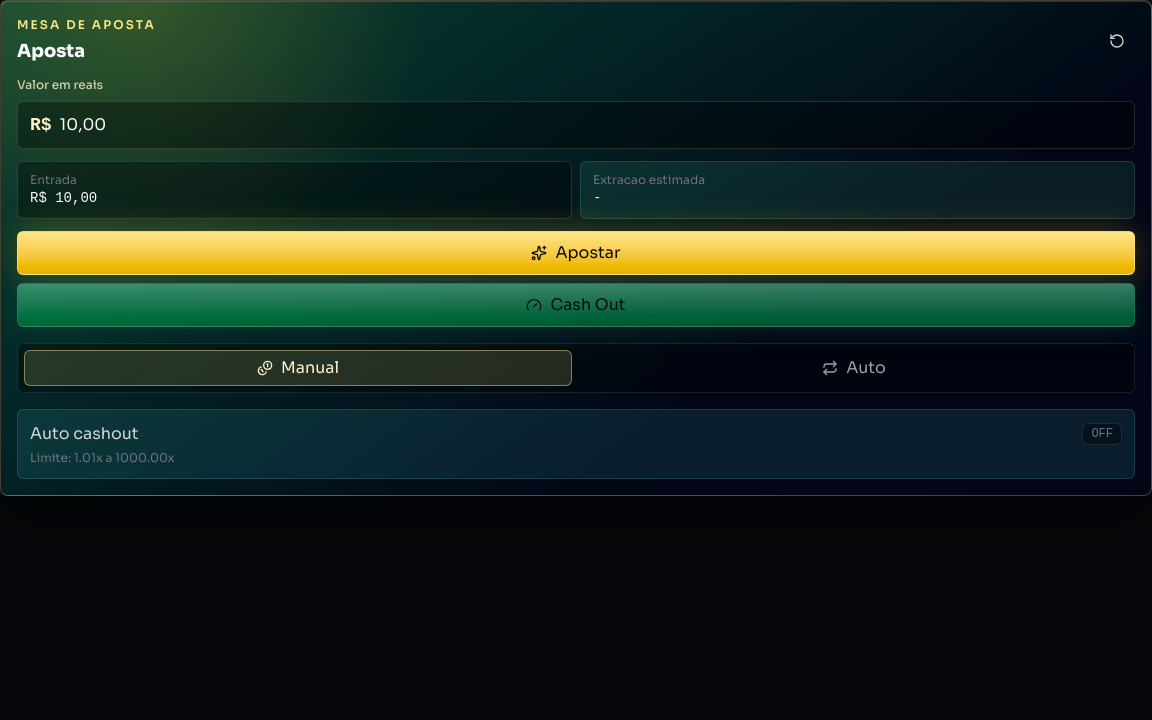
Scenario: game dashboard helpers › disables auto bet when persistent risk fields are invalid
Click the button "Auto": x=854, y=368 [580,350,1128,386]
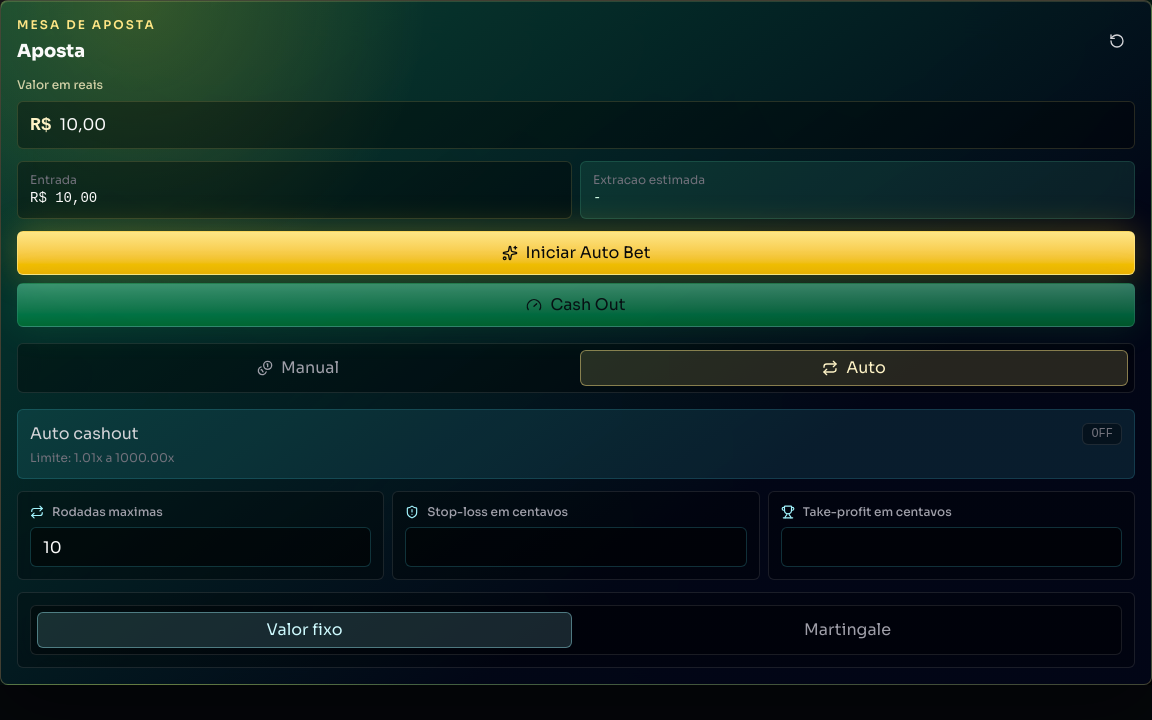
Replace the text in the field labelled "Rodadas maximas" with "0": x=201, y=547 [30,527,371,567]
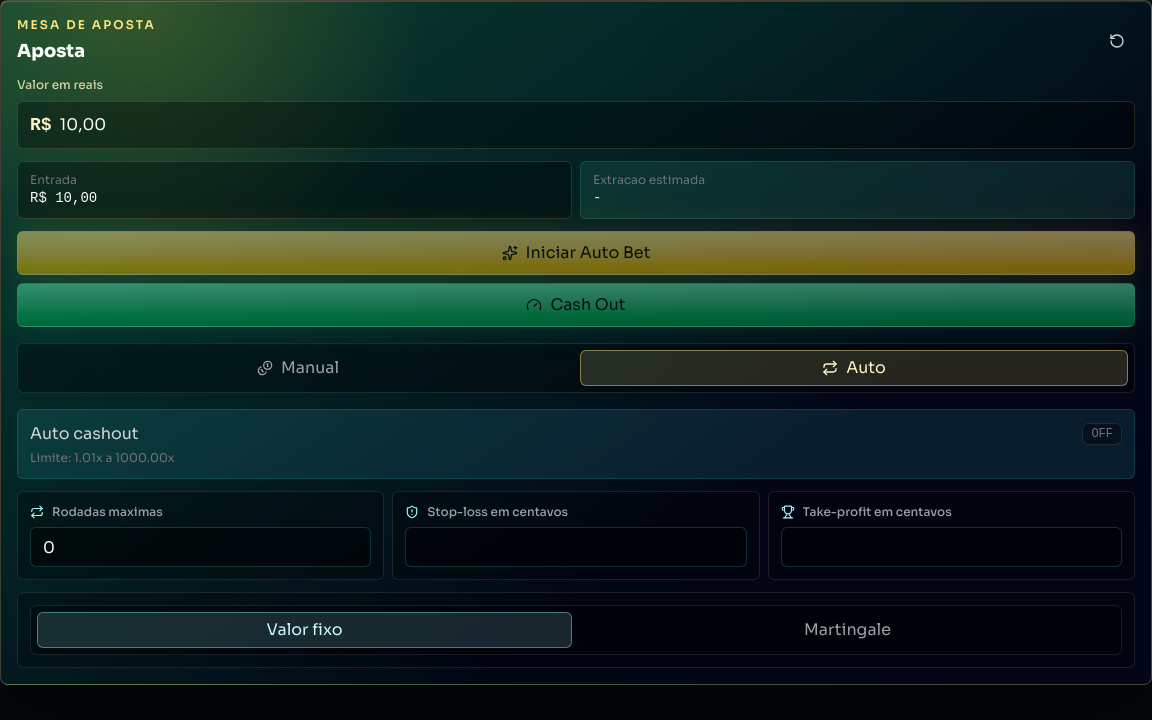
Expected: the button "Iniciar Auto Bet" is disabled, [17,231,1135,275]
Replace the text in the field labelled "Rodadas maximas" with "5": x=201, y=547 [30,527,371,567]
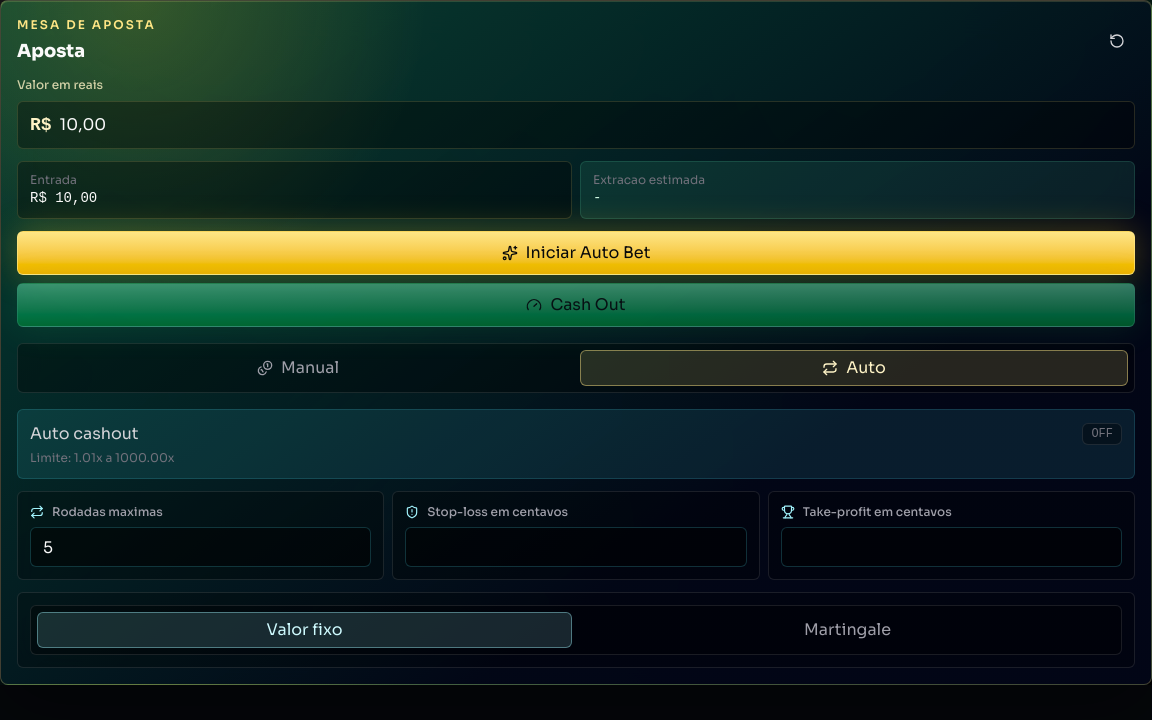
In the field labelled "Stop-loss em centavos": x=576, y=547 [405,527,747,567], type "0"
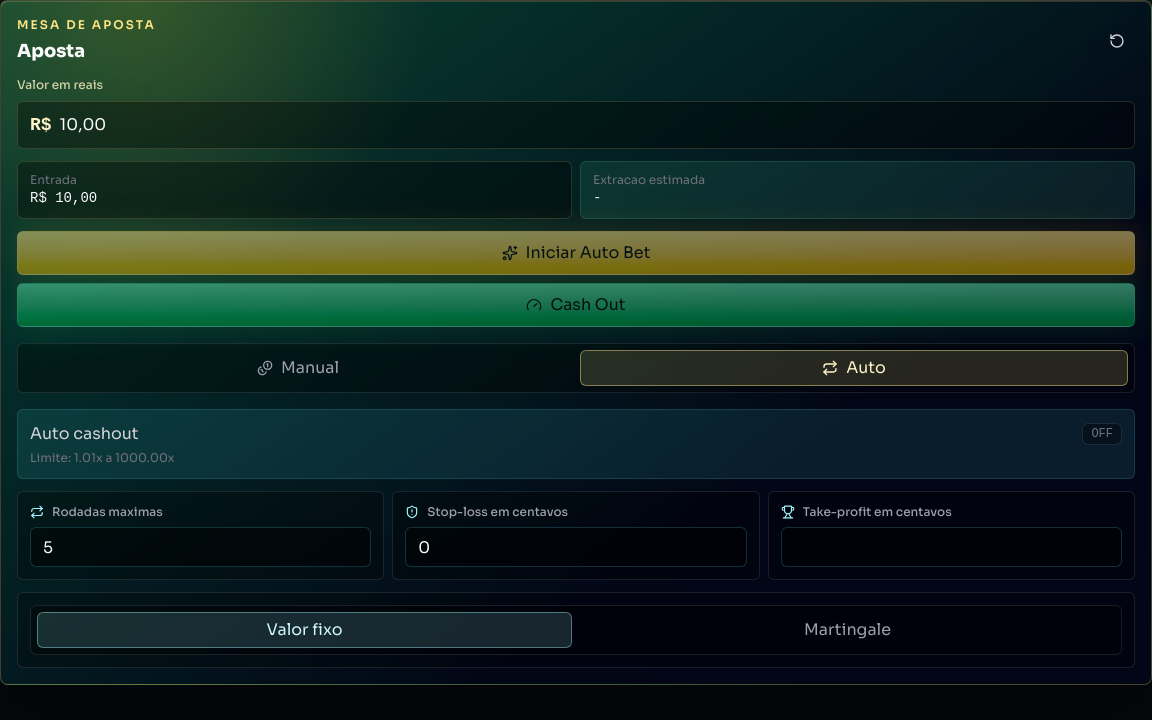
Expected: the button "Iniciar Auto Bet" is disabled, [17,231,1135,275]
